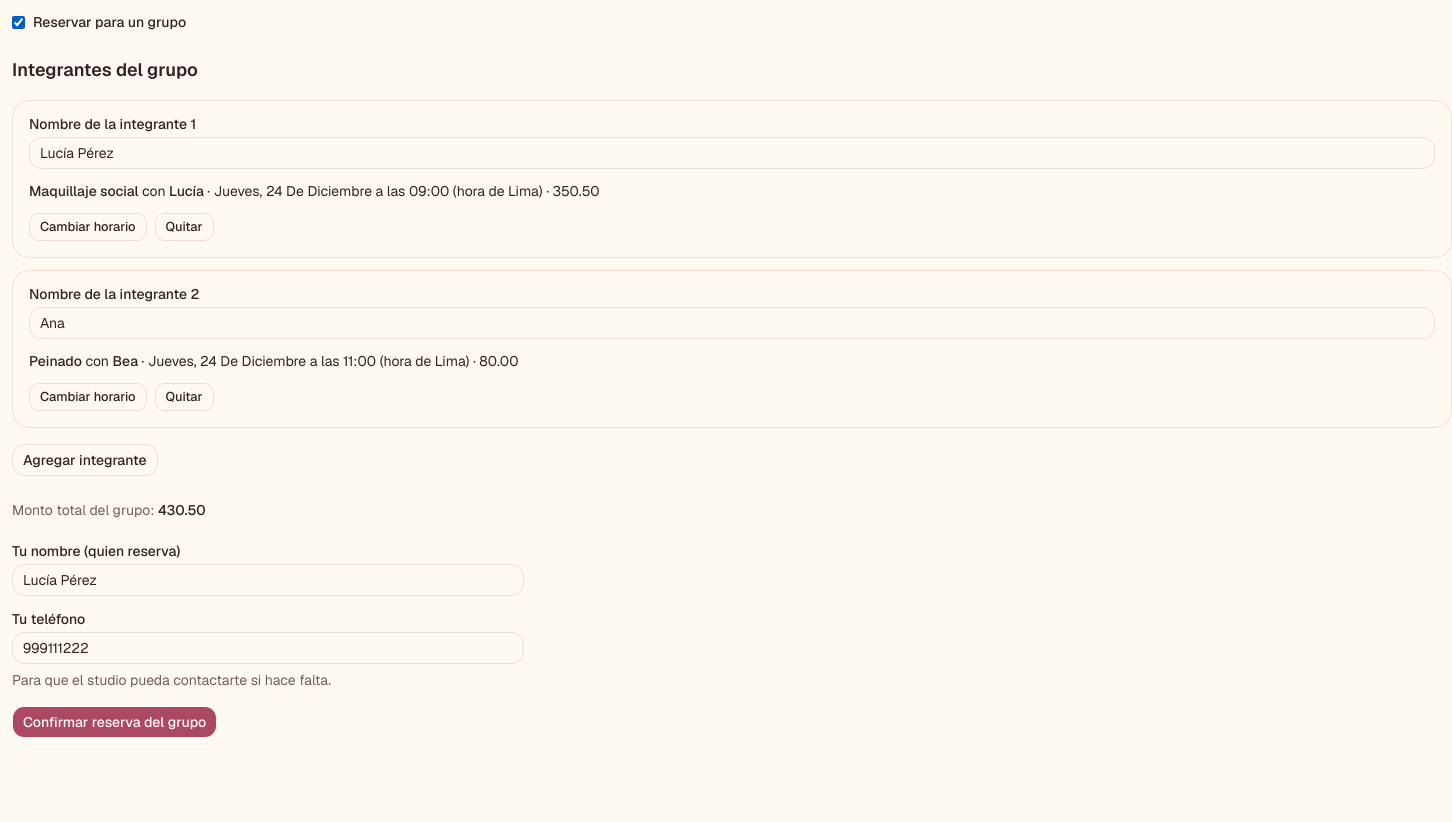
Scenario: activar y desactivar el modo grupal › al desactivarlo vuelve a la reserva individual
The image size is (1452, 822).
Click the switch labelled "Reservar para un grupo": click(18, 22) [12,16,25,28]
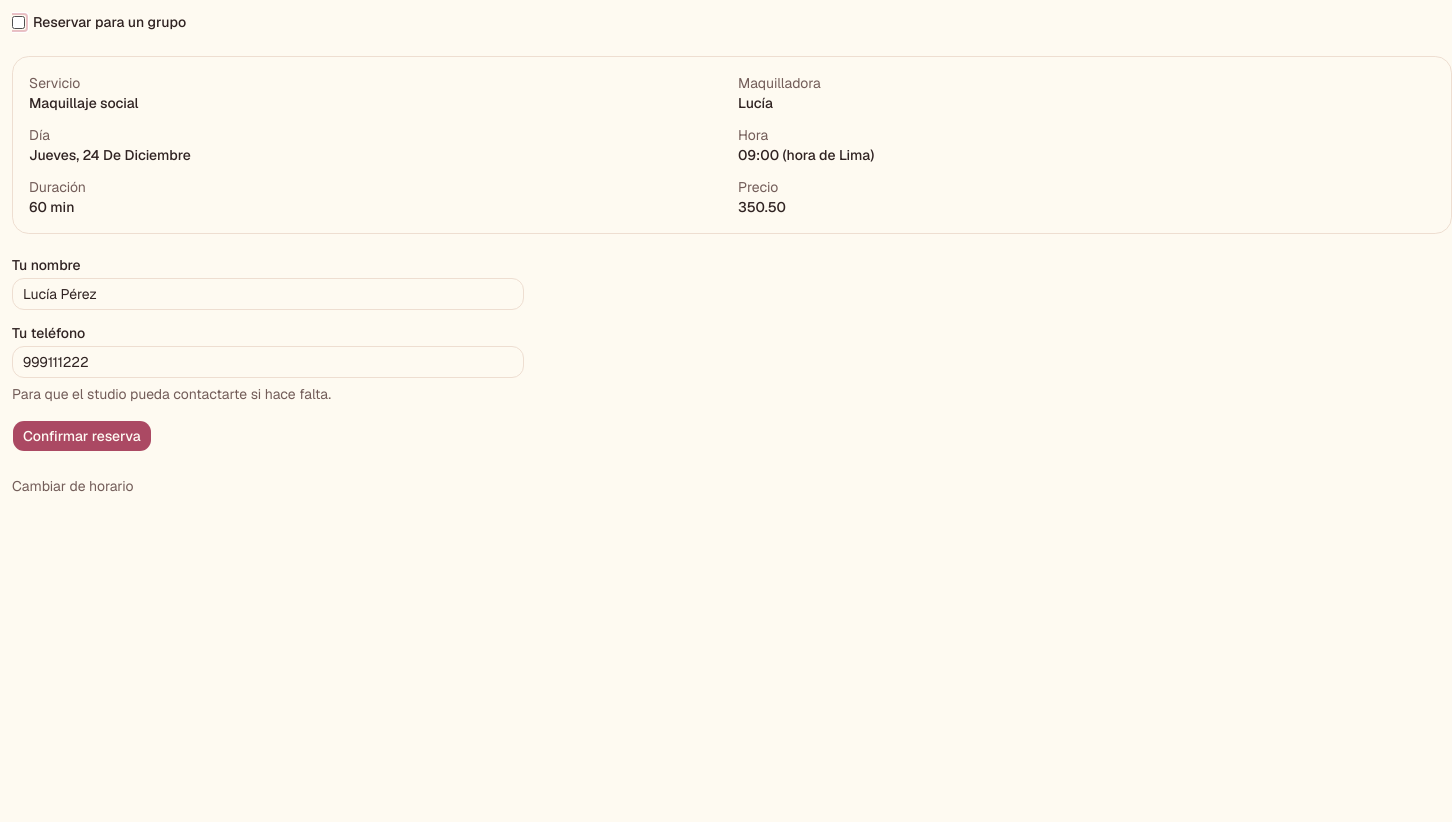
Check: the button "Confirmar reserva" is shown, box [12,420,152,452]
Check: the switch labelled "Reservar para un grupo" is not checked, box [12,16,25,28]
Check: the heading "Integrantes del grupo" is gone
